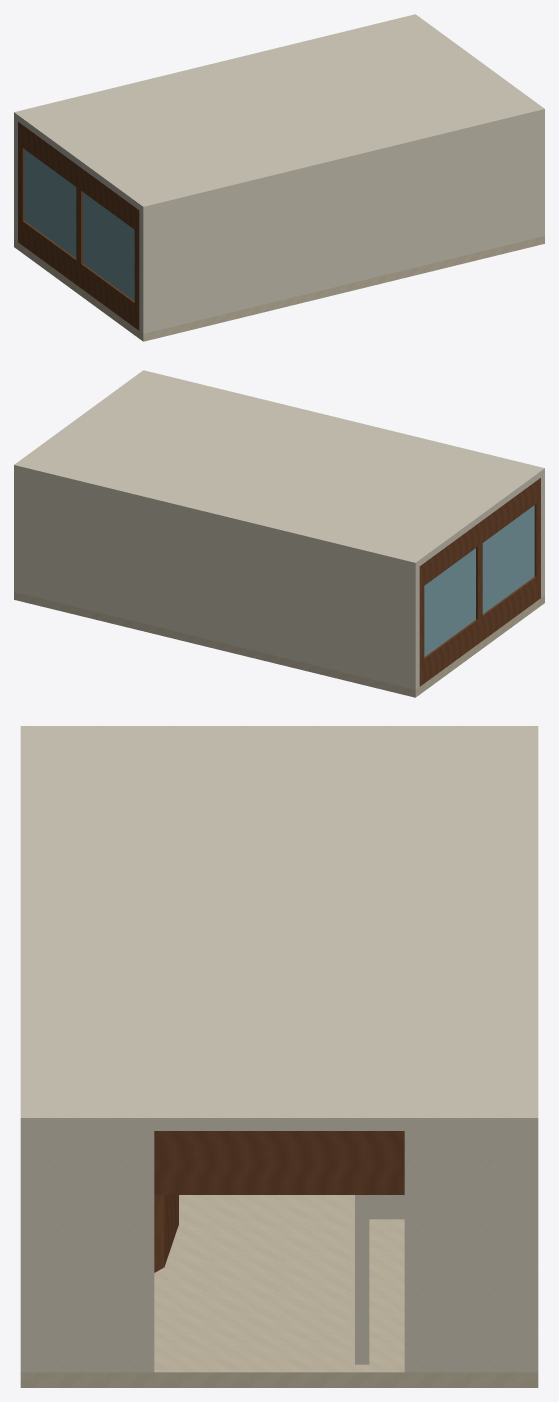
Rendered from TidalSpecialty.glb.
The picture shows the model from 3 angles, top to bottom: view 1: azimuth 30°, elevation 25°; view 2: azimuth 150°, elevation 25°; view 3: azimuth 270°, elevation 25°; orthographic projection. The views are drawn at different scales.
Visible parts, largest first — view 1: TQ150_Ceiling, TQ150_SouthWall, TQ150_Floor, TQ150_CourtGlass_0, TQ150_CourtGlass_1, TQ150_WestSill, TQ150_WestHeader, TQ150_WestPier_1, TQ150_WestPier_0, TQ150_NorthWall, TQ150_WestPier_2; view 2: TQ150_Ceiling, TQ150_NorthWall, TQ150_Floor, TQ150_CourtGlass_1, TQ150_CourtGlass_0, TQ150_WestSill, TQ150_WestHeader, TQ150_WestPier_1, TQ150_WestPier_2, TQ150_SouthWall, TQ150_WestPier_0; view 3: TQ150_Ceiling, TQ150_Floor, TQ150_FrontWall_0, TQ150_FrontWall_1, TQ150_EntryLintel, TQ150_NorthWall, TQ150_SouthWall, TQ150_WashSouth_1, TQ150_PrivacyScreen, TQ150_WashWest.
Boxes of the visible parts, x1,y1,x2,y2 form: TQ150_Ceiling: [14, 14, 544, 213]; TQ150_SouthWall: [139, 115, 544, 333]; TQ150_Floor: [14, 236, 544, 341]; TQ150_CourtGlass_0: [24, 149, 76, 257]; TQ150_CourtGlass_1: [83, 192, 134, 300]; TQ150_WestSill: [18, 218, 139, 330]; TQ150_WestHeader: [18, 122, 139, 232]; TQ150_WestPier_1: [76, 187, 82, 263]; TQ150_WestPier_0: [18, 144, 24, 220]; TQ150_NorthWall: [14, 119, 17, 241]; TQ150_WestPier_2: [134, 230, 139, 305]; TQ150_Ceiling: [14, 370, 544, 569]; TQ150_NorthWall: [14, 471, 419, 689]; TQ150_Floor: [14, 592, 544, 697]; TQ150_CourtGlass_1: [482, 505, 534, 613]; TQ150_CourtGlass_0: [424, 548, 475, 656]; TQ150_WestSill: [419, 574, 540, 686]; TQ150_WestHeader: [419, 478, 540, 588]; TQ150_WestPier_1: [476, 543, 482, 619]; TQ150_WestPier_2: [534, 500, 540, 576]; TQ150_SouthWall: [541, 475, 544, 597]; TQ150_WestPier_0: [419, 586, 424, 661]; TQ150_Ceiling: [20, 726, 538, 1130]; TQ150_Floor: [20, 1195, 538, 1387]; TQ150_FrontWall_0: [404, 1131, 522, 1372]; TQ150_FrontWall_1: [36, 1131, 154, 1372]; TQ150_EntryLintel: [154, 1131, 404, 1194]; TQ150_NorthWall: [522, 1131, 538, 1372]; TQ150_SouthWall: [20, 1131, 36, 1372]; TQ150_WashSouth_1: [355, 1195, 369, 1364]; TQ150_PrivacyScreen: [154, 1195, 178, 1272]; TQ150_WashWest: [369, 1195, 404, 1219].
Size of the model in its own units: 12.9 by 4.14 by 7.2.
Materials: 7 (5 with a texture image).
